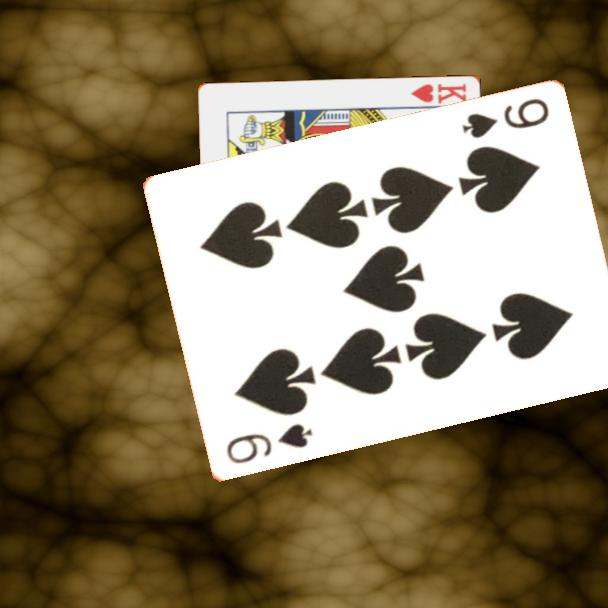h13: (407, 80, 470, 106)
s09: (222, 420, 316, 468), (458, 95, 552, 142)
